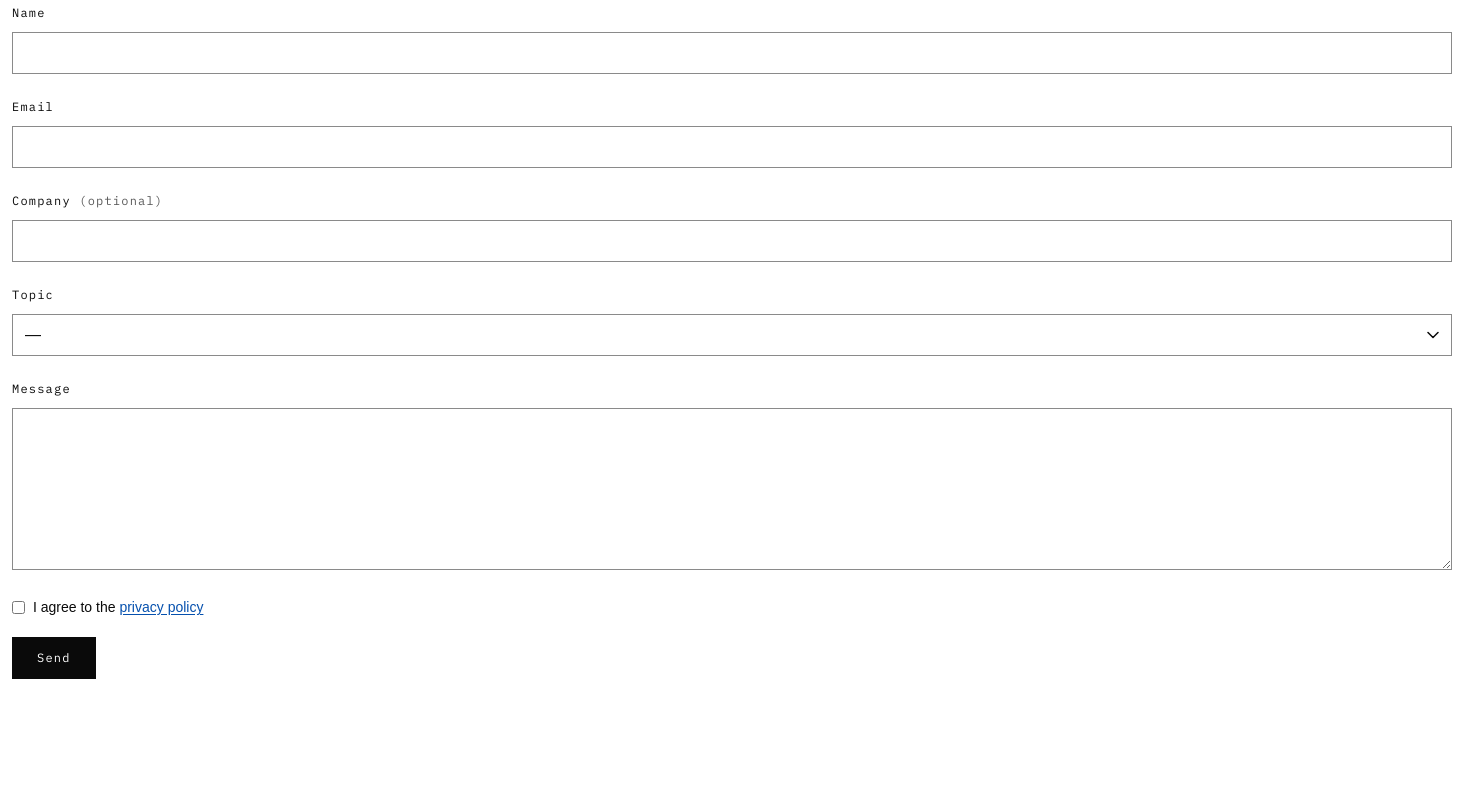
Test: ContactForm › checking the entry in the browser › leaves the optional company empty without a complaint
Type "山田 太郎" into the field labelled "Name".
click(732, 53); type("山田 太郎")  # box [12,32,1452,74]
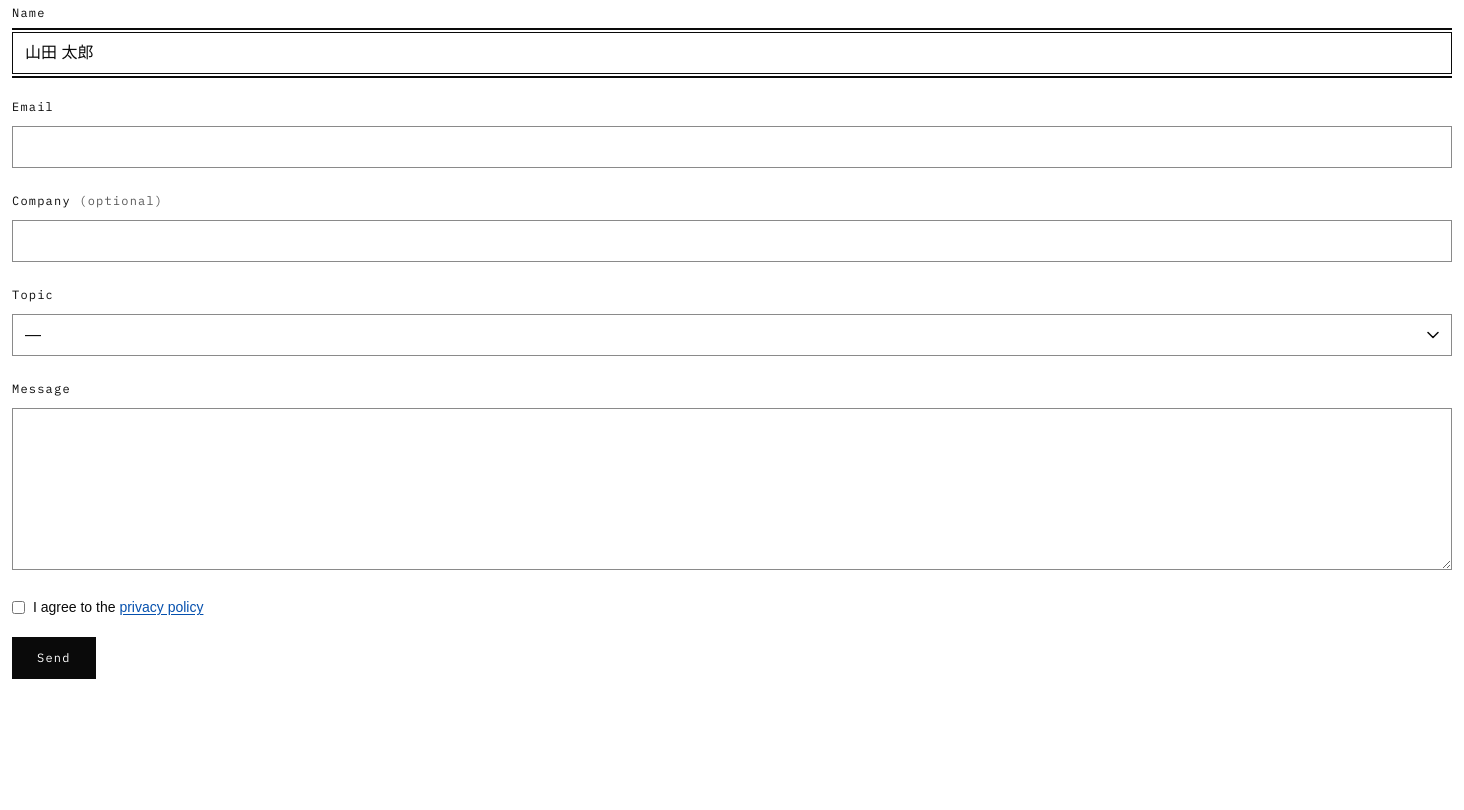
Type "taro@example.com" into the field labelled "Email".
click(732, 147); type("taro@example.com")  # box [12,126,1452,168]
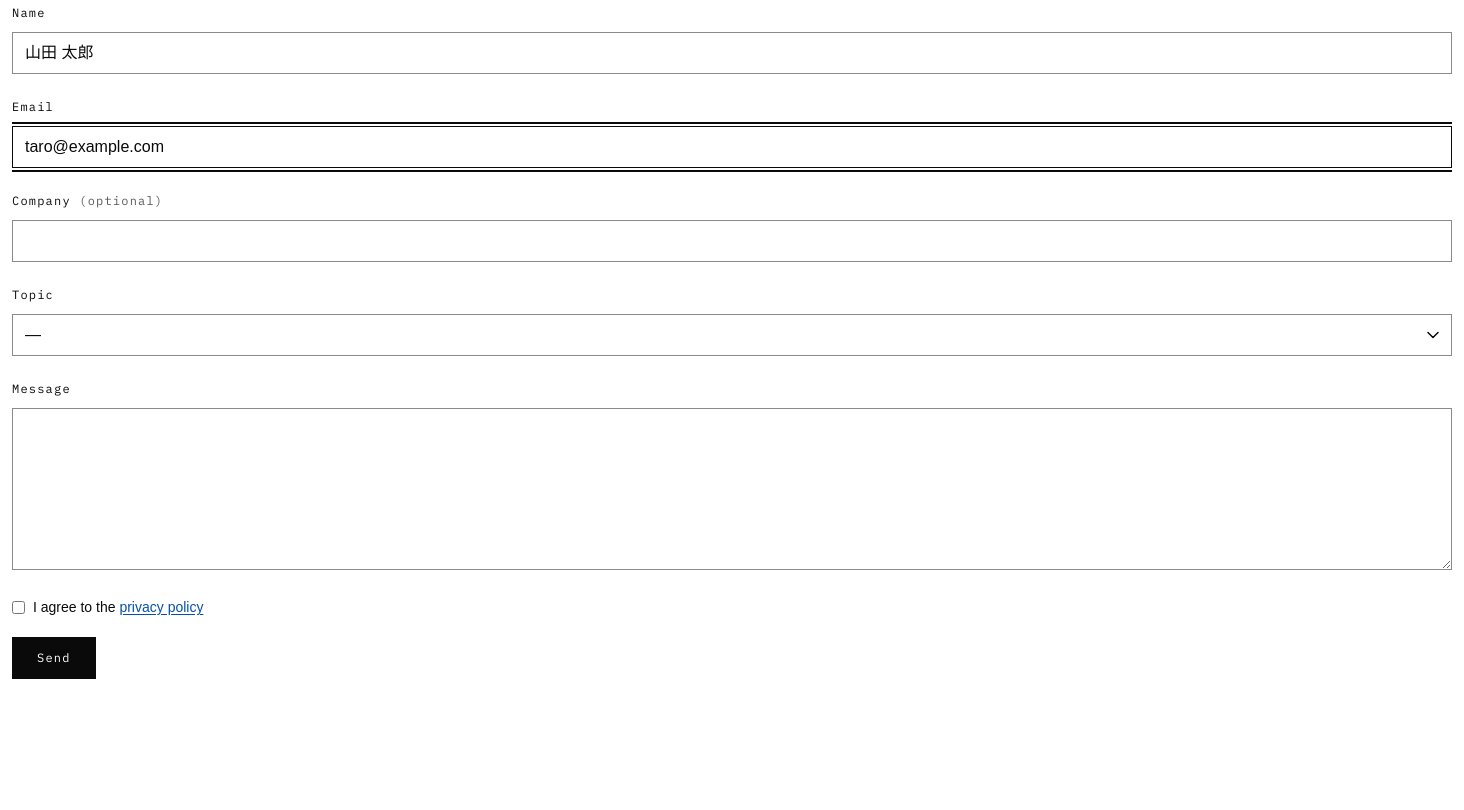
Select "Pipeline" in the dropdown labelled "Topic" at (732, 335), box [12,314,1452,356]
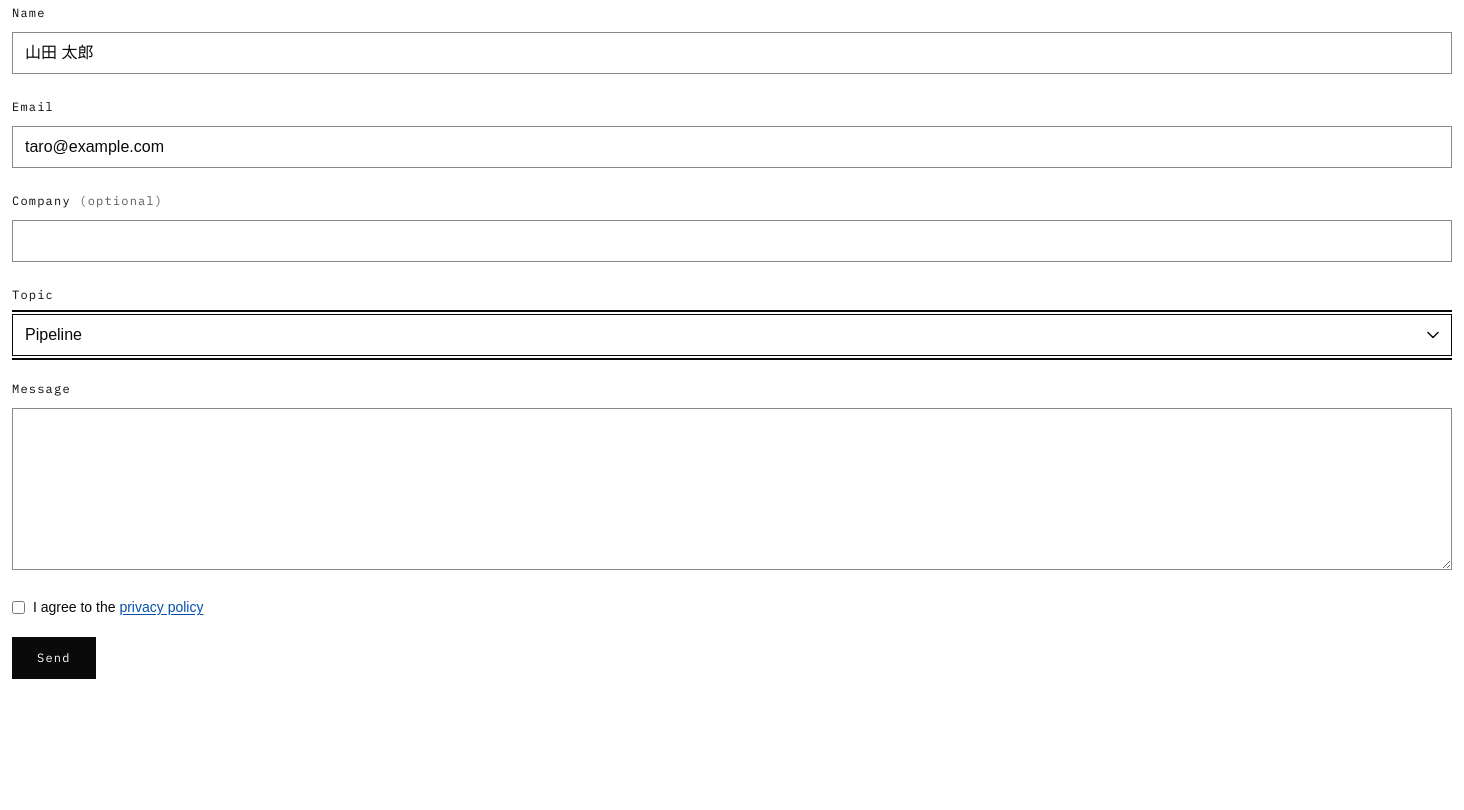
Type "相談です" into the text box labelled "Message".
click(732, 489); type("相談です")  # box [12,408,1452,570]
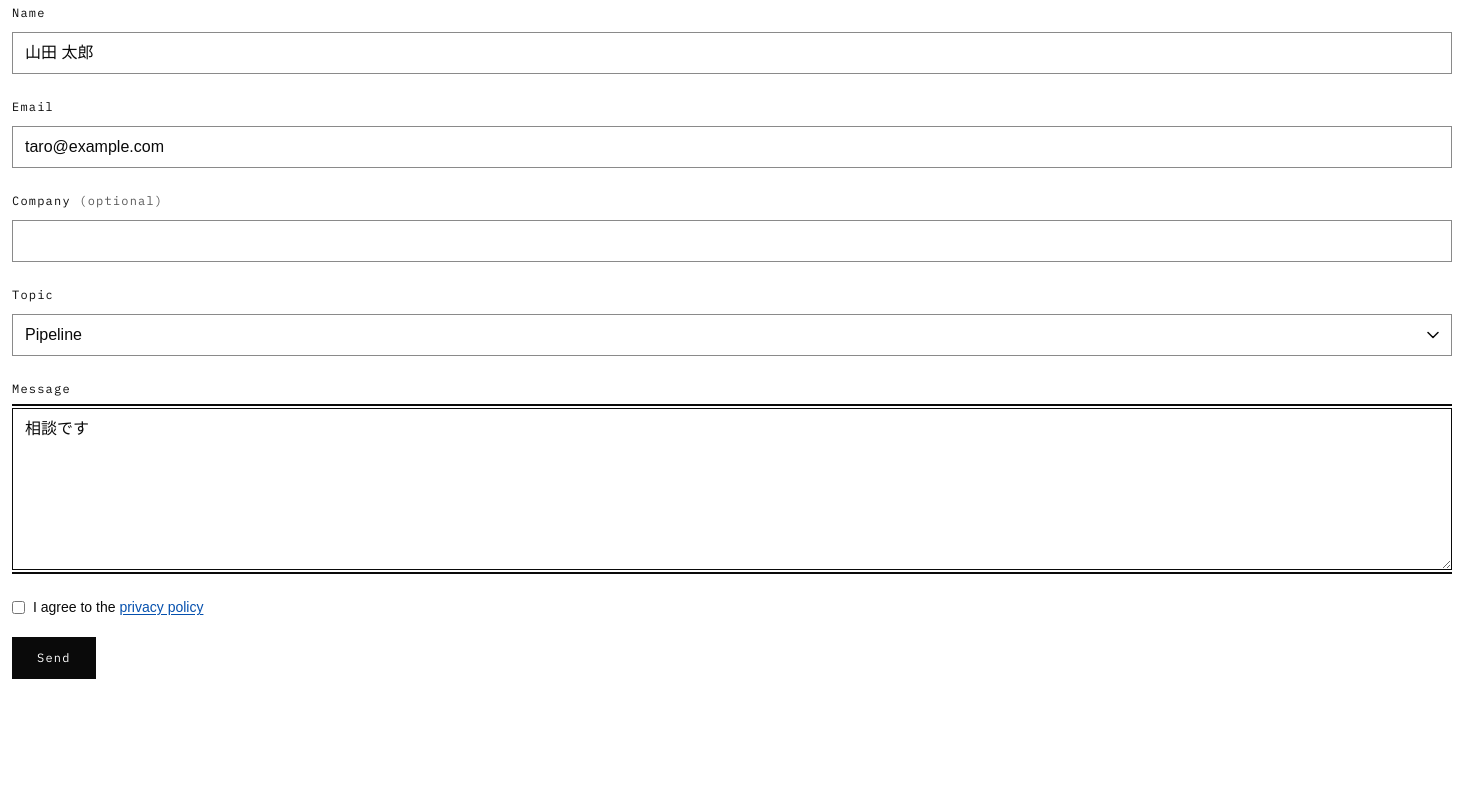
Click the checkbox labelled "I agree to the privacy policy".
click(18, 607)  # box [12,600,25,614]
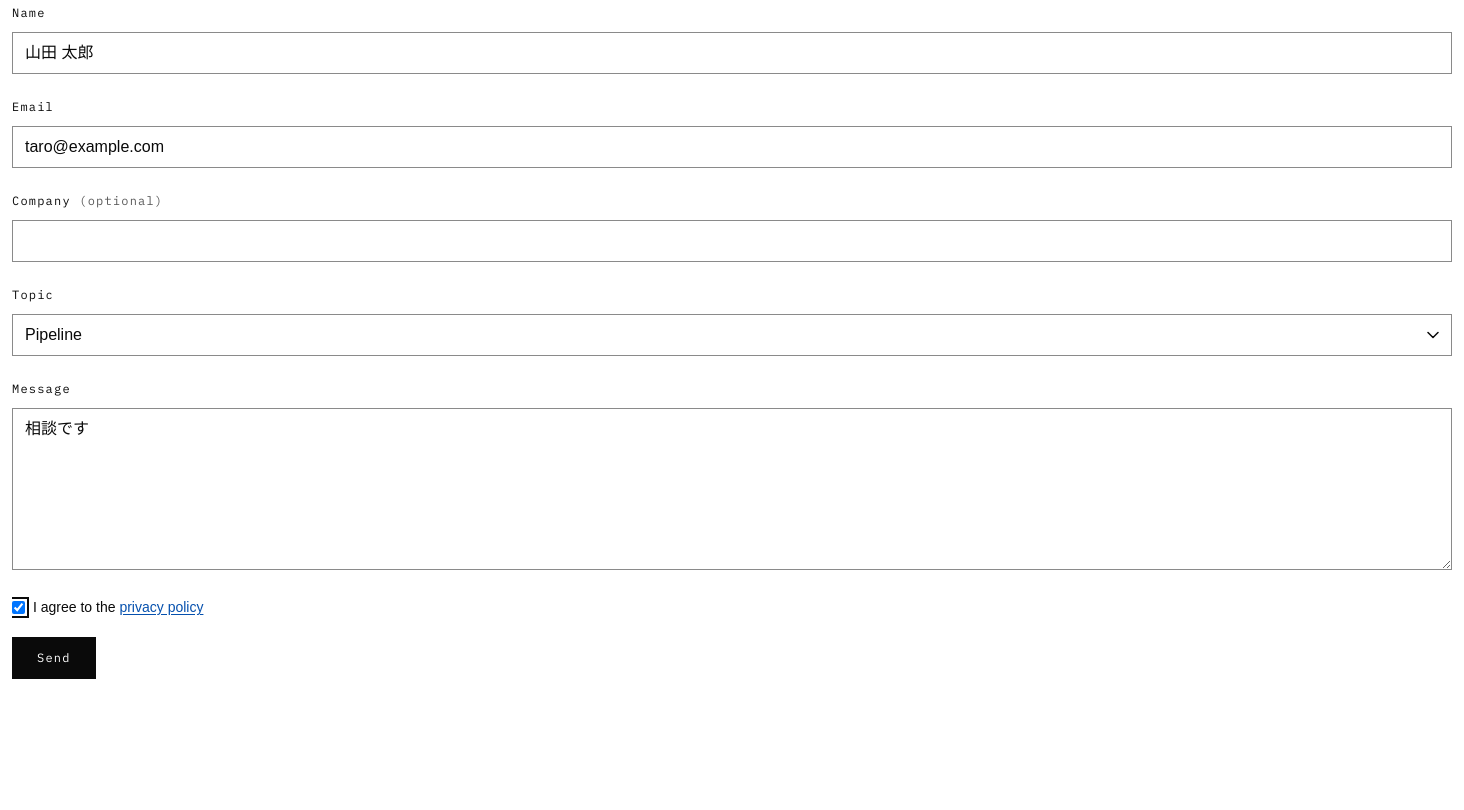
Click the button "Send".
click(54, 658)  # box [12,637,96,679]
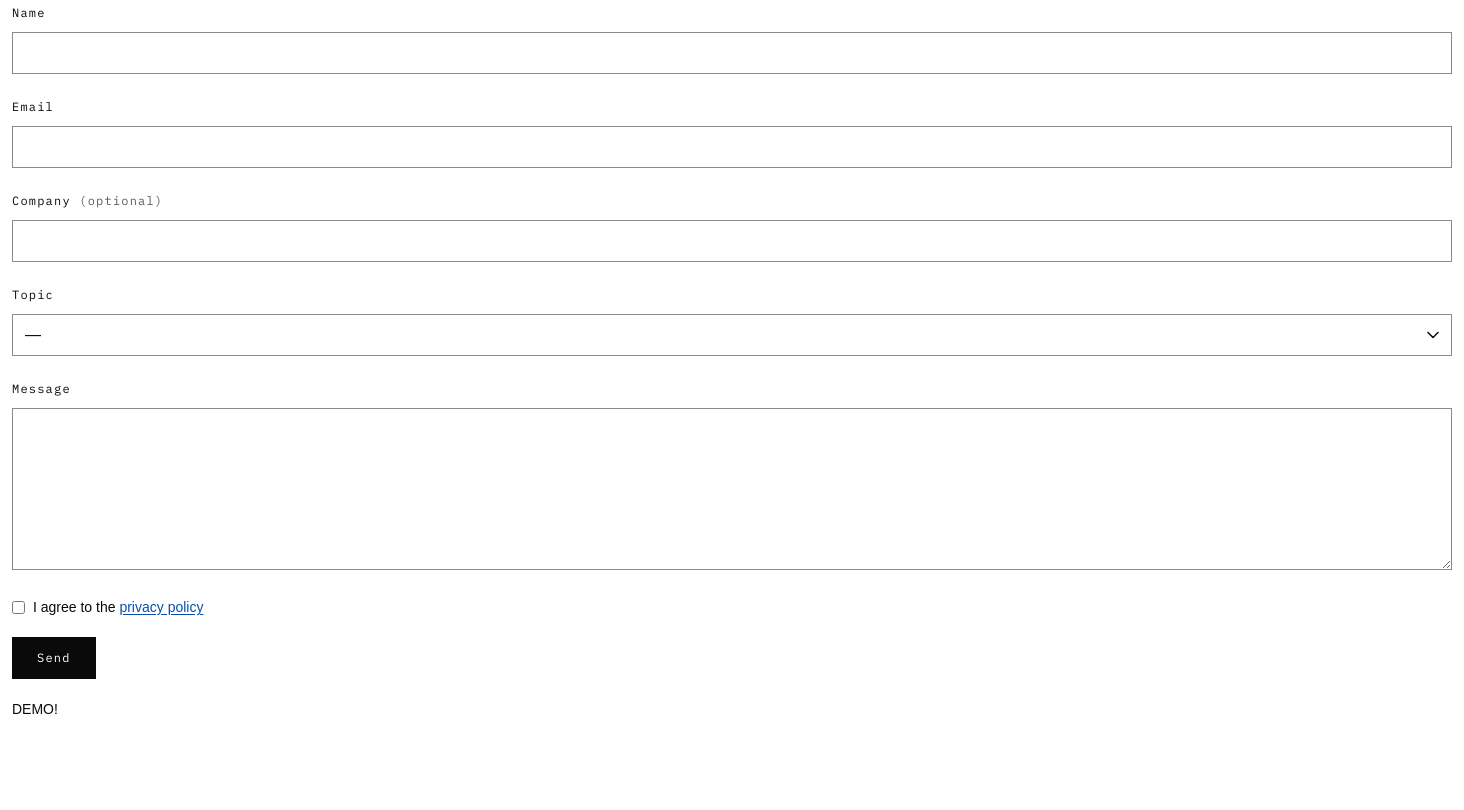
Expected: the message "DEMO!" is shown, [12,701,58,717]
